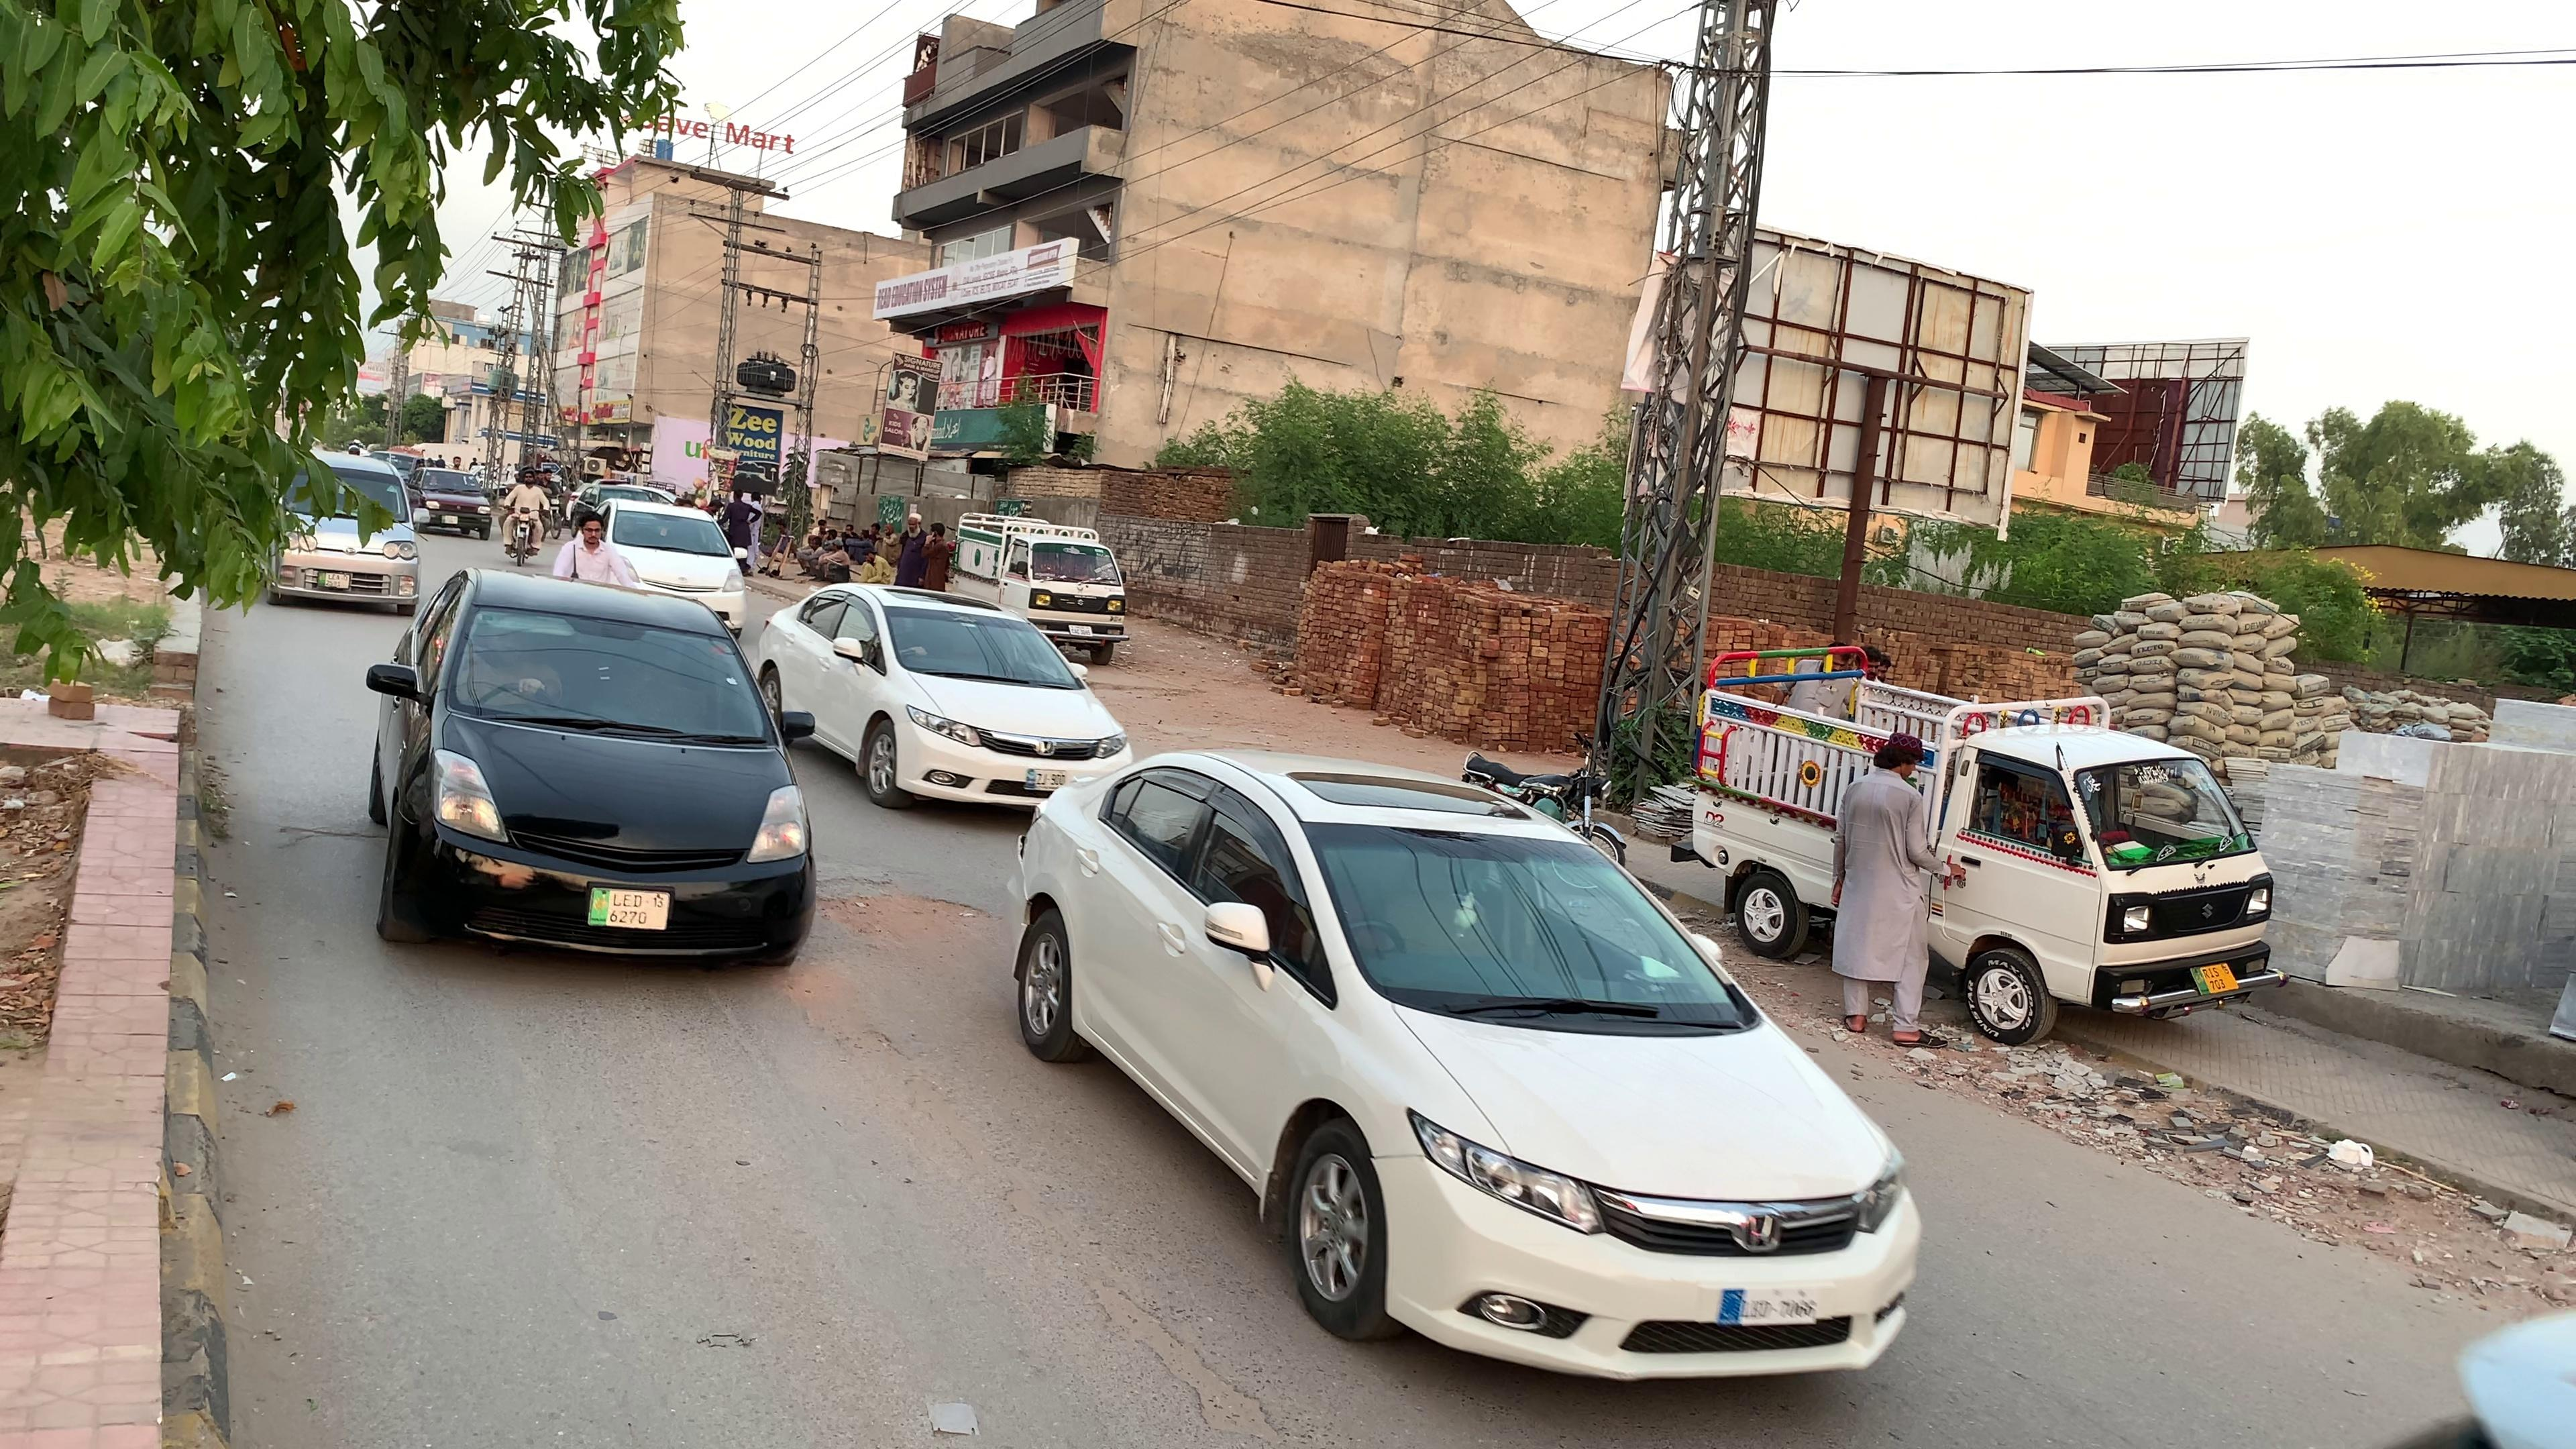windshield: (1288, 812, 1785, 1033), (437, 591, 793, 755)
